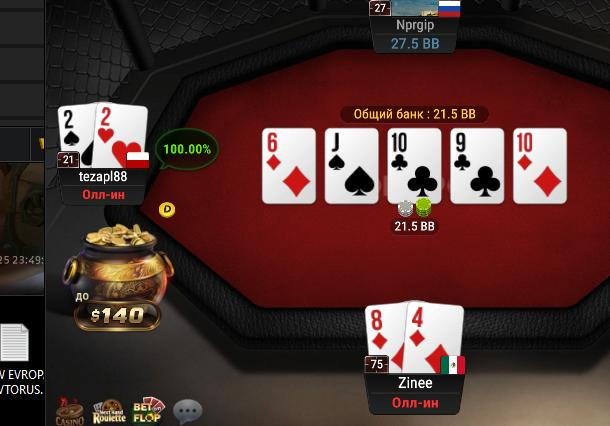10c: (388, 129, 441, 203)
10d: (514, 128, 566, 204)
2h: (95, 103, 146, 164)
2s: (56, 104, 95, 169)
4d: (406, 302, 462, 372)
6d: (262, 129, 314, 202)
8d: (364, 305, 406, 372)
9c: (450, 130, 504, 201)
Js: (324, 128, 378, 202)
